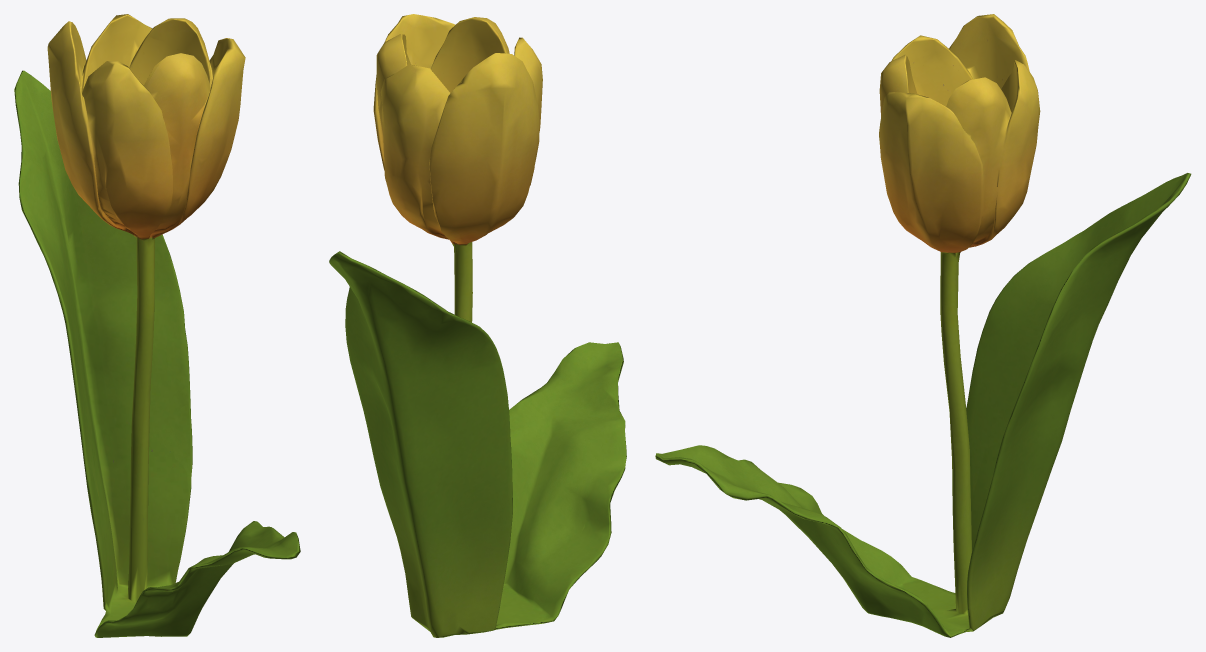
File: yellow_flower.glb
3 renders of one model, left to right at view 1: azimuth 30°, elevation 25°; view 2: azimuth 150°, elevation 25°; view 3: azimuth 270°, elevation 25°, orthographic. The views are drawn at different scales.
Parts seen in each view (by area): view 1: tripo_node_50527a3b-2488-4b87-84dc-17222e90efbe; view 2: tripo_node_50527a3b-2488-4b87-84dc-17222e90efbe; view 3: tripo_node_50527a3b-2488-4b87-84dc-17222e90efbe.
Part boxes in pixels (x1,y1,x2,y2): tripo_node_50527a3b-2488-4b87-84dc-17222e90efbe: (14,14,300,637); tripo_node_50527a3b-2488-4b87-84dc-17222e90efbe: (329,14,626,637); tripo_node_50527a3b-2488-4b87-84dc-17222e90efbe: (655,14,1191,637).
Size of the model in its own units: 0.2936 by 1 by 0.8475.
Materials: 1 (1 with a texture image).
